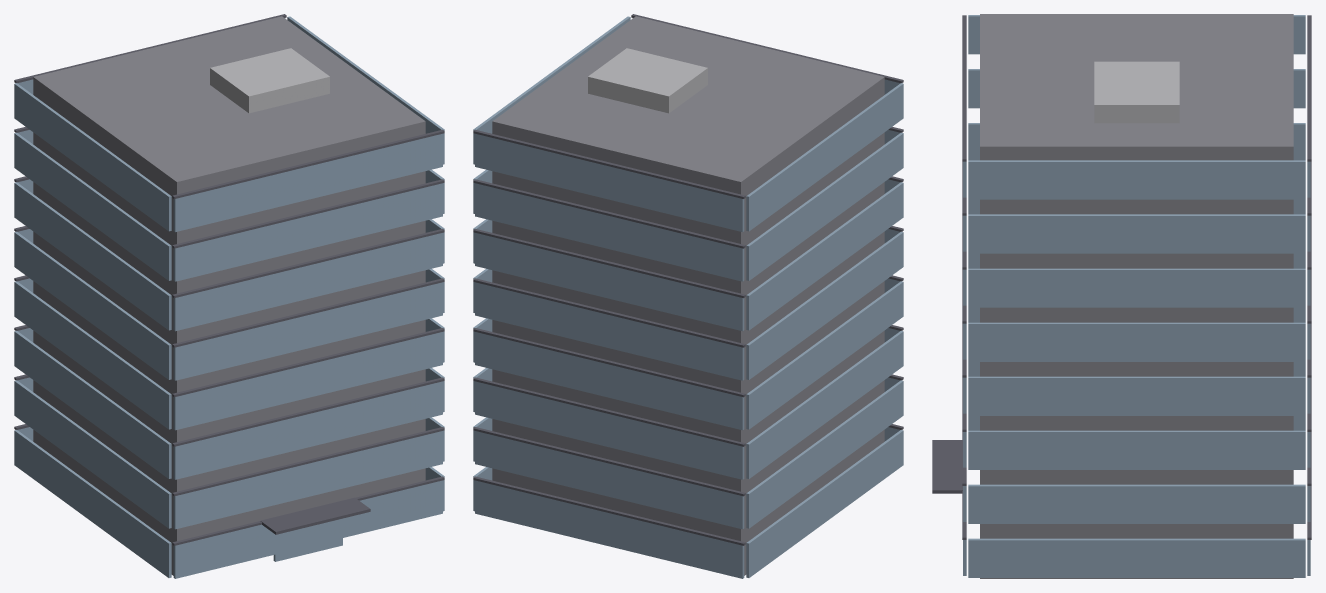
Rendered from Office_2x2_8F.glb.
The picture shows the model from 3 angles, left to right: view 1: azimuth 30°, elevation 25°; view 2: azimuth 150°, elevation 25°; view 3: azimuth 270°, elevation 25°; orthographic projection. The views are drawn at different scales.
Visible parts, largest first — view 1: Office_2x2_8F; view 2: Office_2x2_8F; view 3: Office_2x2_8F.
Boxes of the visible parts, x1=… form: Office_2x2_8F: x1=14, y1=14, x2=444, y2=578; Office_2x2_8F: x1=473, y1=14, x2=903, y2=578; Office_2x2_8F: x1=932, y1=14, x2=1311, y2=578.
Bounding box in the file's own units: 2.04 × 2.92 × 2.22.
